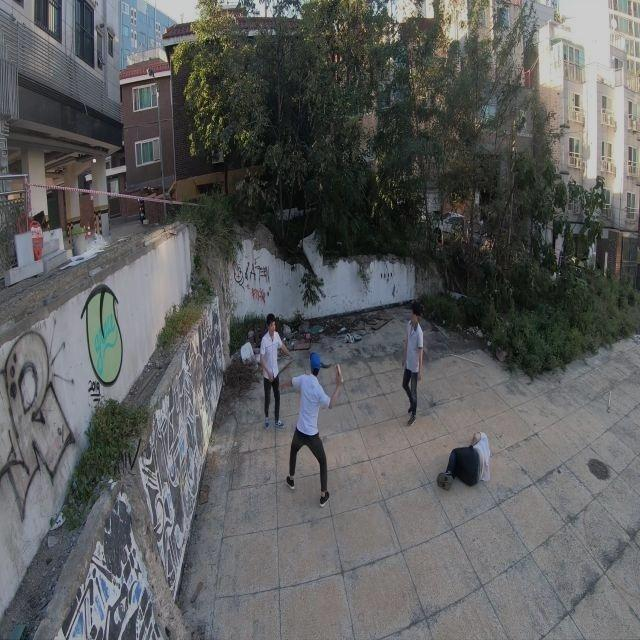non-fight: (284, 352, 333, 505), (435, 427, 492, 491), (257, 313, 286, 429), (399, 311, 425, 424)
